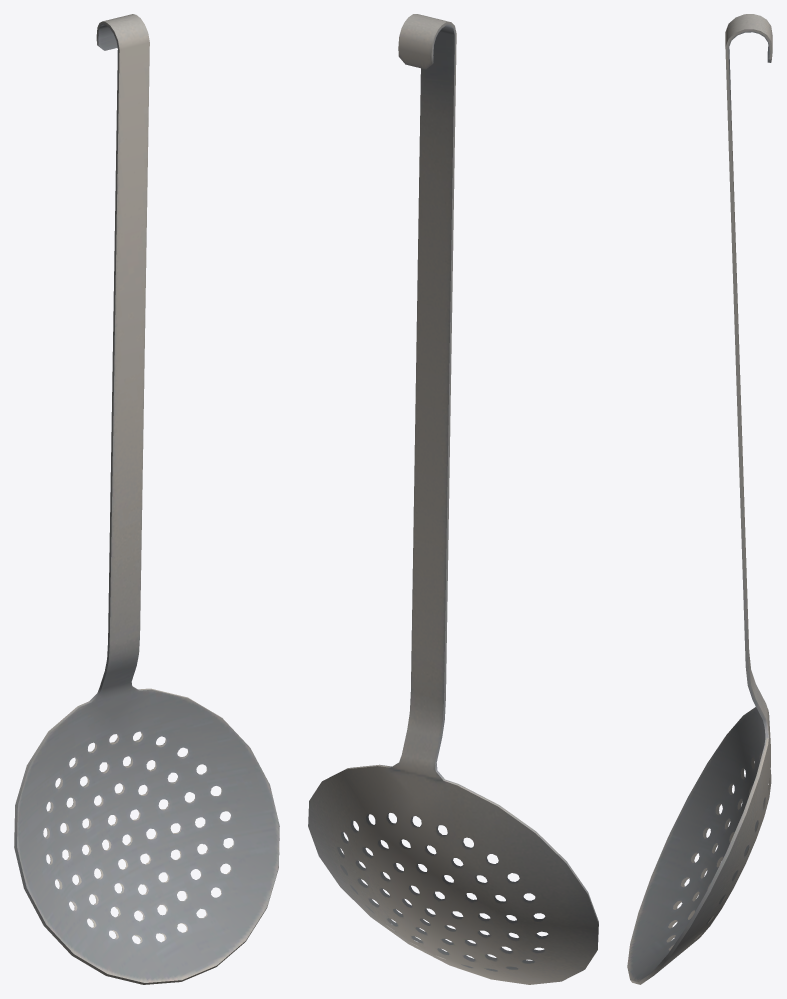
Rendered from SM_Utensil_05.glb.
The picture shows the model from 3 angles, left to right: view 1: azimuth 30°, elevation 25°; view 2: azimuth 150°, elevation 25°; view 3: azimuth 270°, elevation 25°; orthographic projection. The views are drawn at different scales.
Visible parts, largest first — view 1: SM_Utensil_05; view 2: SM_Utensil_05; view 3: SM_Utensil_05.
Part boxes in pixels (box(x1,y1,x2,y2)): SM_Utensil_05: box(14, 14, 279, 984); SM_Utensil_05: box(308, 14, 598, 984); SM_Utensil_05: box(627, 14, 772, 984).
Size of the model in its own units: 0.1553 by 0.5331 by 0.0741.
1 material, 1 textured.
